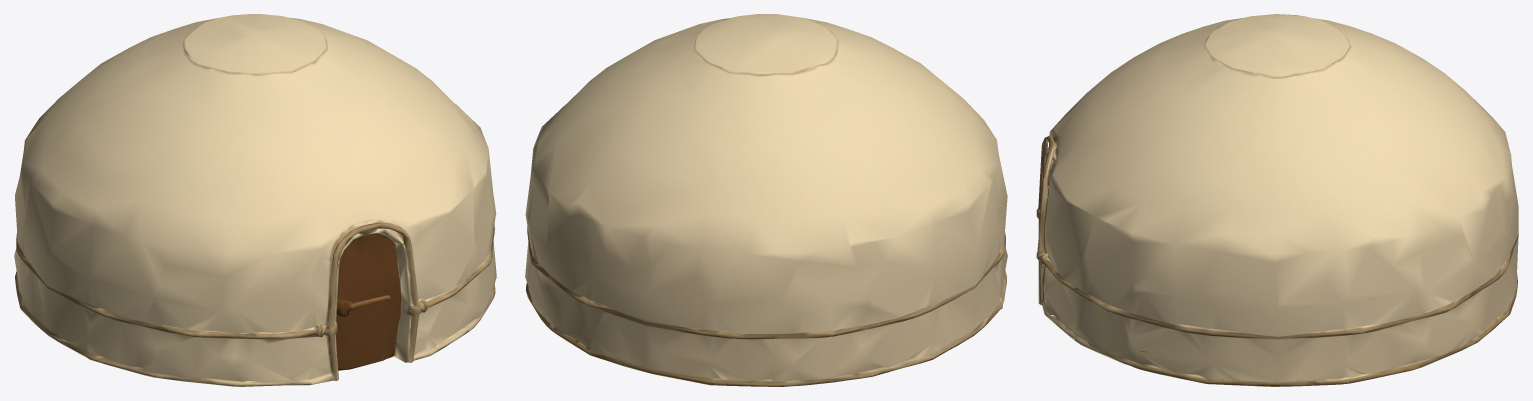
Rendered from cadir.glb.
3 views of the same model, side by side, from view 1: azimuth 30°, elevation 25°; view 2: azimuth 150°, elevation 25°; view 3: azimuth 270°, elevation 25° (orthographic).
Bounding box in the file's own units: 1.9 × 1.1 × 1.9.
1 material, 1 textured.
